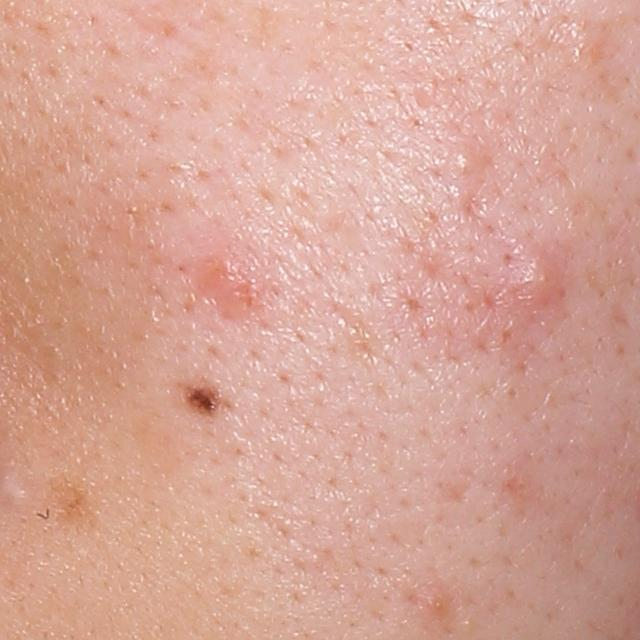comedo: (451, 147, 481, 178)
nevus: (172, 377, 232, 416)
papule: (511, 252, 567, 308), (423, 590, 455, 618)
